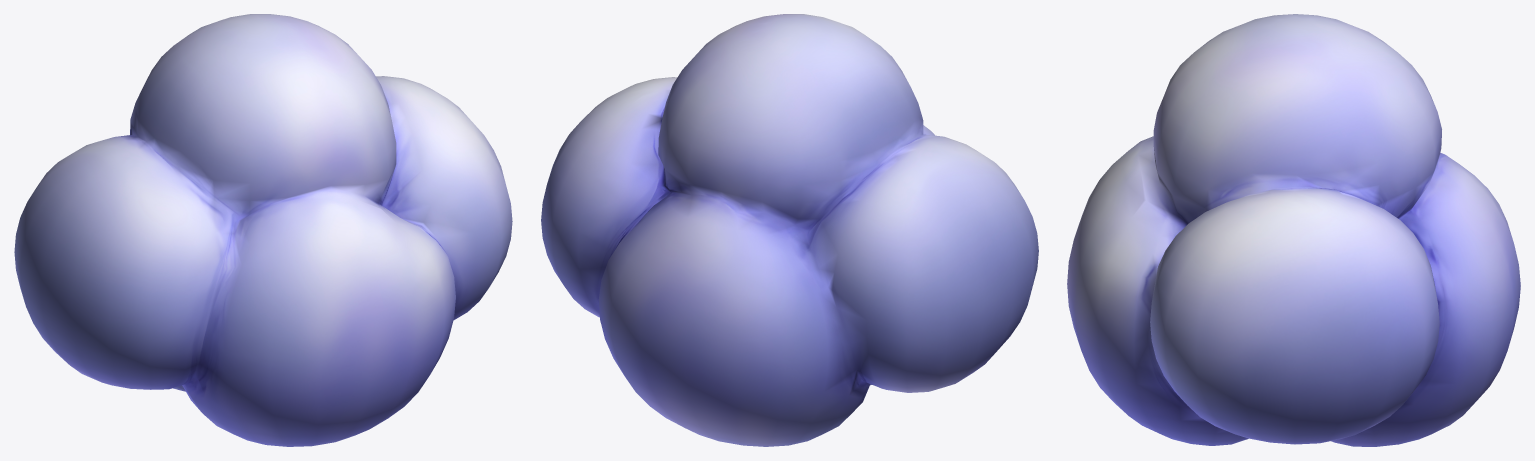
File: cloud-four-blobs.glb
3 renders of one model, left to right at view 1: azimuth 30°, elevation 25°; view 2: azimuth 150°, elevation 25°; view 3: azimuth 270°, elevation 25°, orthographic. The views are drawn at different scales.
Parts seen in each view (by area): view 1: e5134e08_3084_4acc_aa29_e346d33b8883; view 2: e5134e08_3084_4acc_aa29_e346d33b8883; view 3: e5134e08_3084_4acc_aa29_e346d33b8883.
Part boxes in pixels (box(x1,y1,x2,y2)): e5134e08_3084_4acc_aa29_e346d33b8883: box(14, 14, 512, 446); e5134e08_3084_4acc_aa29_e346d33b8883: box(541, 14, 1038, 446); e5134e08_3084_4acc_aa29_e346d33b8883: box(1067, 14, 1520, 446).
Bounding box in the file's own units: 0.9995 × 0.812 × 0.8306.
Materials: 1 (1 with a texture image).
